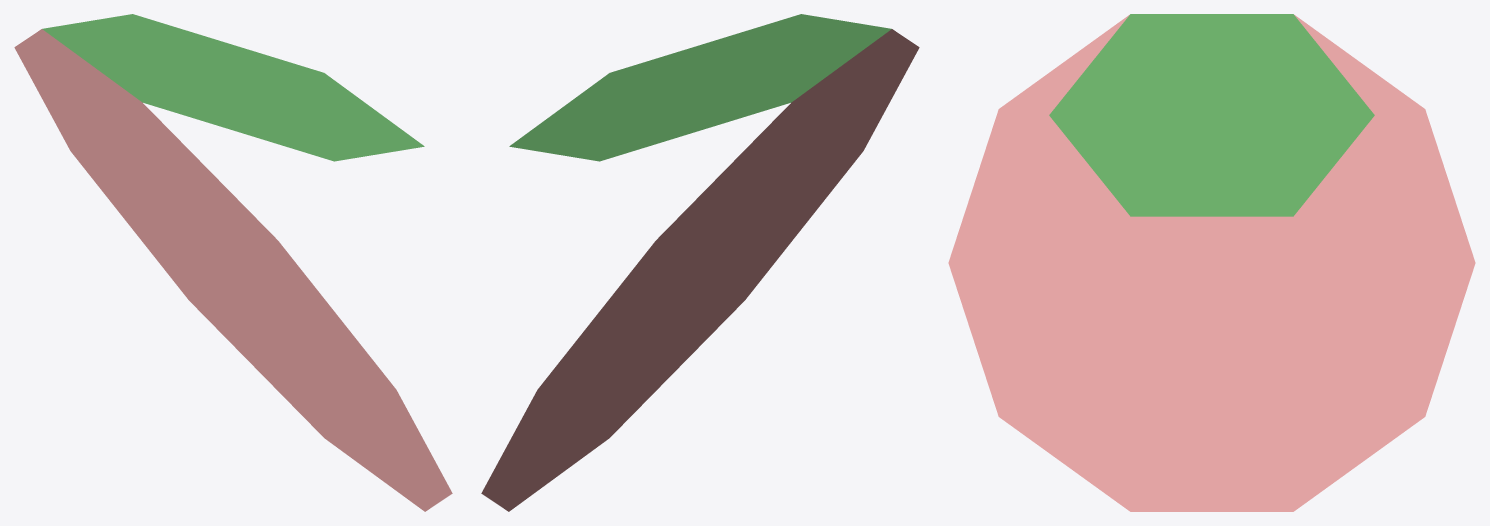
The model's file is SmallDodecicosahedronF.obj.
The picture shows the model from 3 angles, left to right: view 1: azimuth 30°, elevation 25°; view 2: azimuth 150°, elevation 25°; view 3: azimuth 270°, elevation 25°; orthographic projection. The views are drawn at different scales.
Size of the model in its own units: 1.62 by 2.62 by 3.24.
